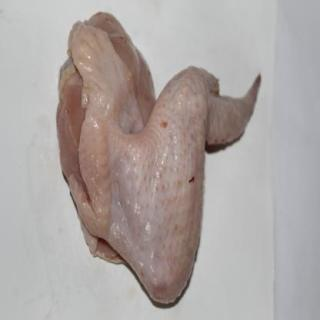Ayam: (57, 12, 264, 305)
